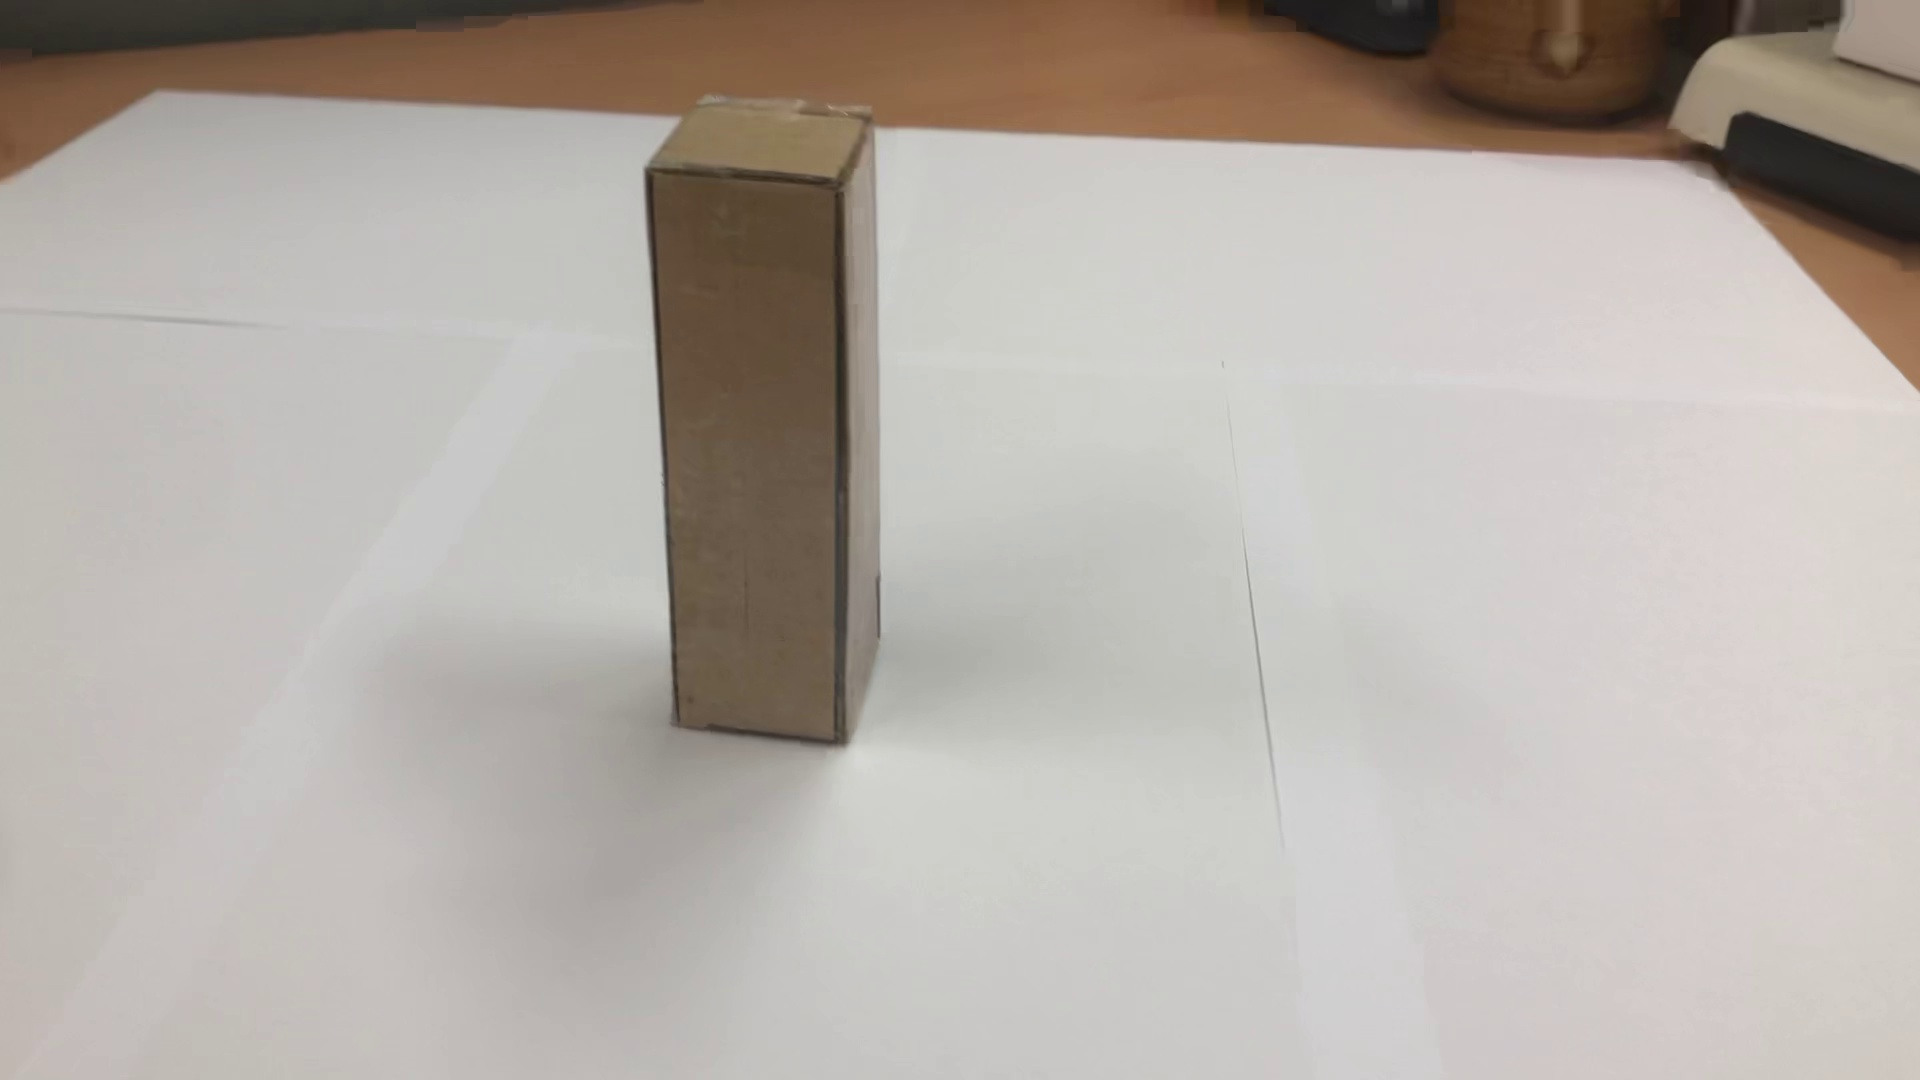box: (601, 84, 918, 767)
